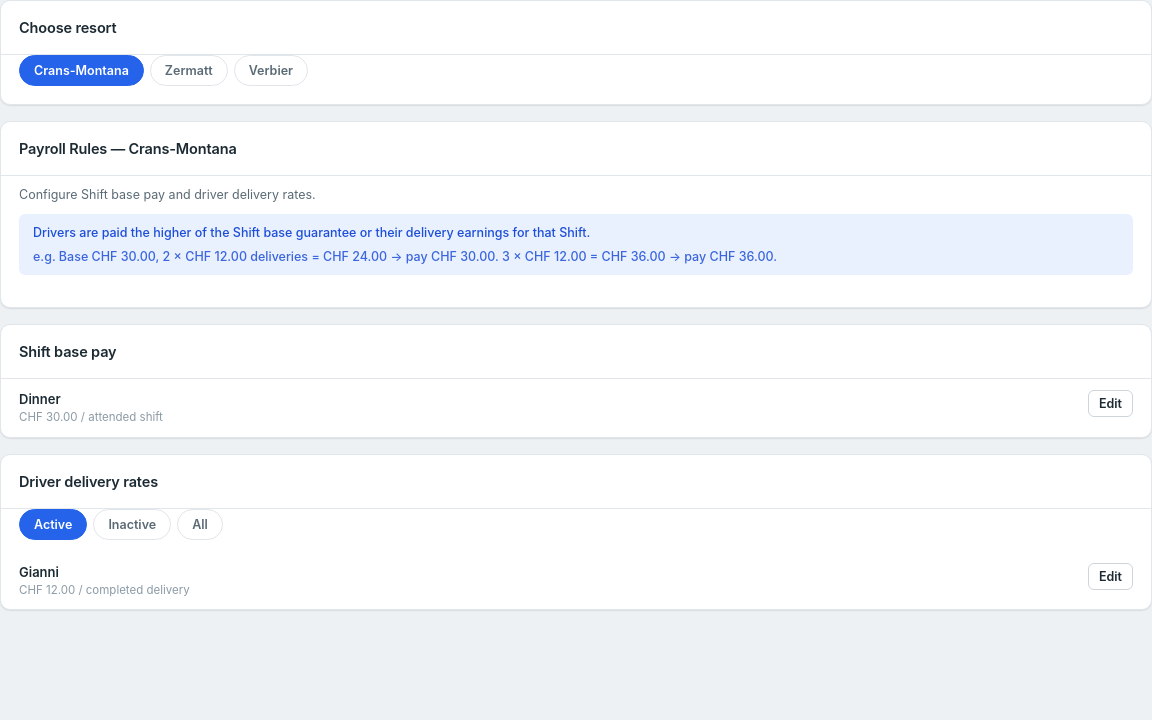
Test: PayrollRulesPanel: Shift base pay › 8. an effective date is required and pre-filled with today
Check: the text "Dinner" is shown, box [19,391,60,407]
Click the button "Edit" in the row of "CHF 30.00 / attended shift": (1110, 404) [1088,390,1133,417]
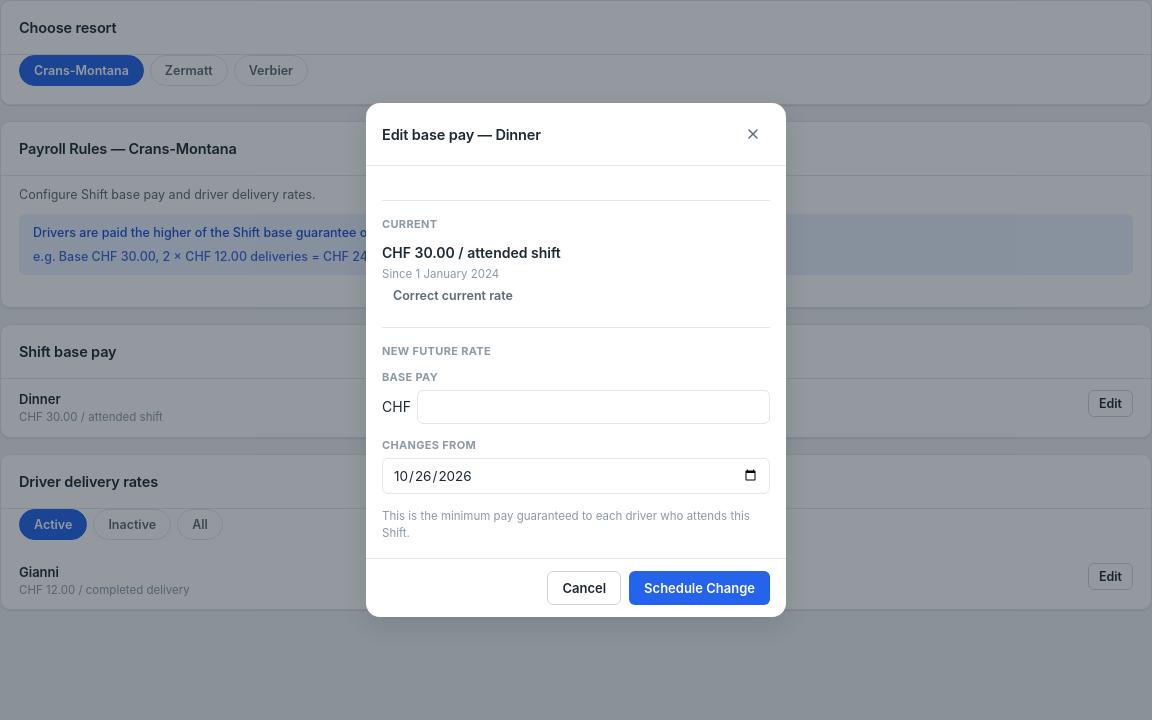
Check: the date field labelled "Changes from" is not empty, box [382,458,770,494]
